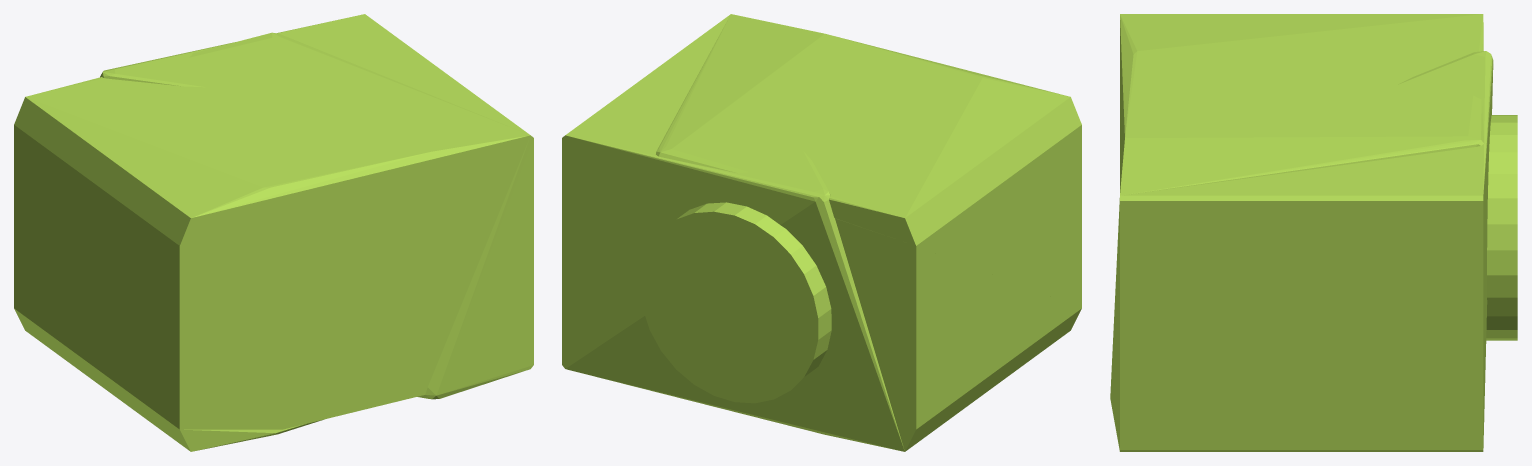
3 views of the same model, side by side, from view 1: azimuth 30°, elevation 25°; view 2: azimuth 150°, elevation 25°; view 3: azimuth 270°, elevation 25° (orthographic). The views are drawn at different scales.
Visible parts, largest first — view 1: right_link6; view 2: right_link6; view 3: right_link6.
Part boxes in pixels (box(x1,y1,x2,y2)): right_link6: box(14, 14, 533, 451); right_link6: box(562, 14, 1081, 451); right_link6: box(1110, 14, 1517, 451).
Size of the model in its own units: 0.111 by 0.0734 by 0.1009.
